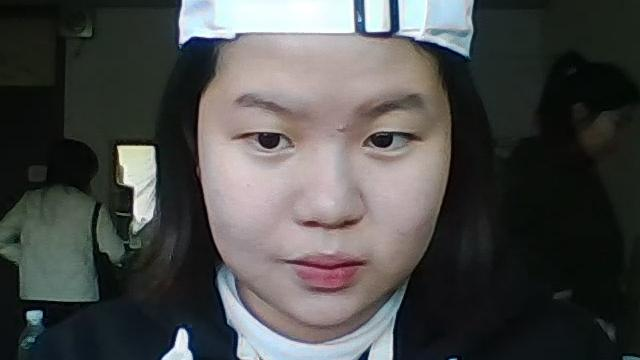eye: (372, 128, 392, 148), (258, 130, 280, 148)
iris: (362, 131, 413, 151), (243, 134, 295, 149)
